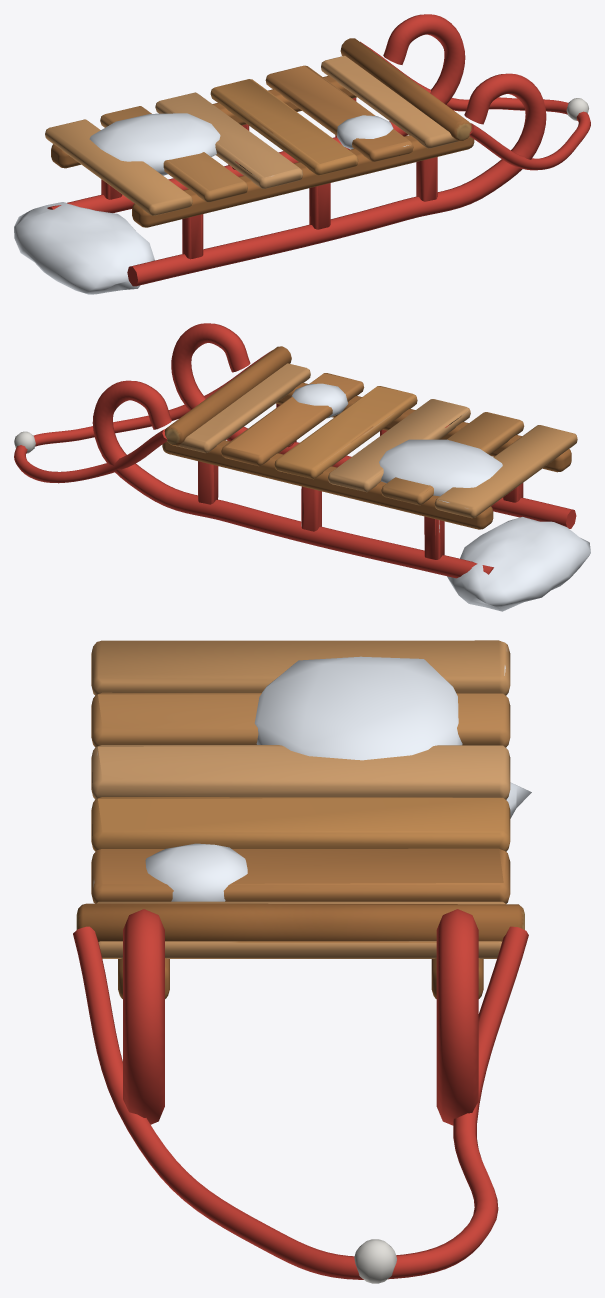
File: sled.glb
3 views of the same model, one above another, from view 1: azimuth 30°, elevation 25°; view 2: azimuth 150°, elevation 25°; view 3: azimuth 270°, elevation 25° (orthographic). The views are drawn at different scales.
Visible parts, largest first — view 1: bar, runner, runner.001, rope; view 2: bar, runner.001, runner, rope; view 3: bar, rope, runner.001, runner.
Part boxes in pixels (x1,y1,x2,y2): bar: (14,38,588,294); runner: (127,73,546,286); runner.001: (47,14,465,212); rope: (360,41,590,170); bar: (14,346,590,611); runner.001: (92,380,493,578); runner: (171,323,576,528); rope: (14,350,271,483); bar: (76,640,531,1283); rope: (73,926,528,1279); runner.001: (436,909,478,1125); runner: (123,909,164,1124).
Bounding box in the file's own units: 1.68 × 0.4346 × 0.615.
Materials: 3 (1 with a texture image).
